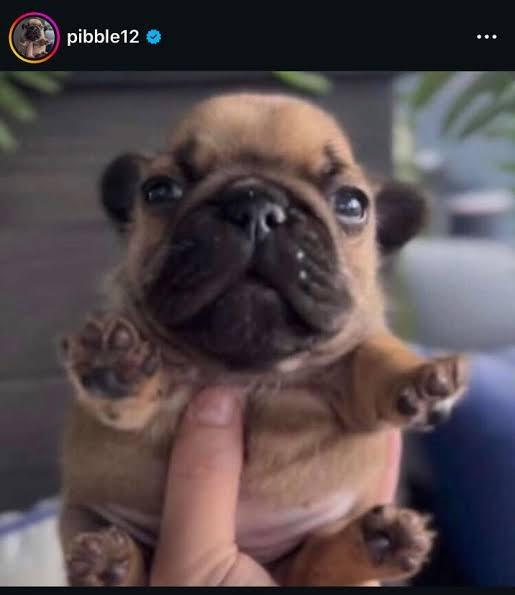non-dog: (151, 378, 399, 588)
puppy-dog: (57, 84, 470, 590)
